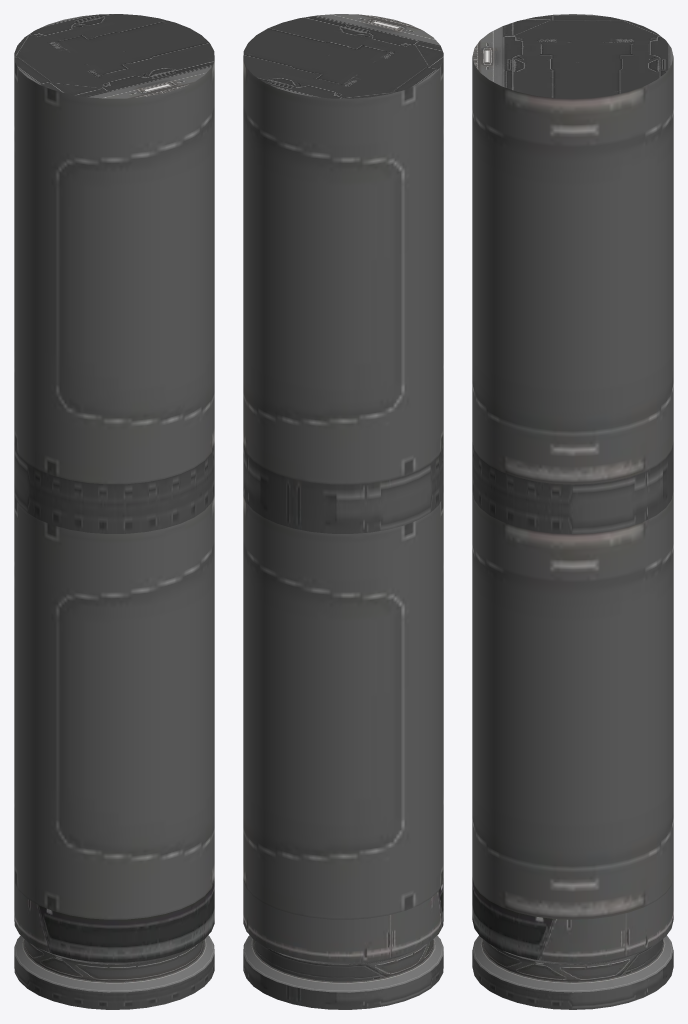
Rendered from fut-coluna.gltf.
The picture shows the model from 3 angles, left to right: view 1: azimuth 30°, elevation 25°; view 2: azimuth 150°, elevation 25°; view 3: azimuth 270°, elevation 25°; orthographic projection.
Visible parts, largest first — view 1: Column_Round; view 2: Column_Round; view 3: Column_Round.
Boxes of the visible parts, left/top/right/bottom form: Column_Round: left=14, top=14, right=214, bottom=1009; Column_Round: left=243, top=14, right=443, bottom=1009; Column_Round: left=472, top=14, right=673, bottom=1009.
Bounding box in the file's own units: 0.4999 × 2.5 × 0.4999.
2 materials, 2 textured.
